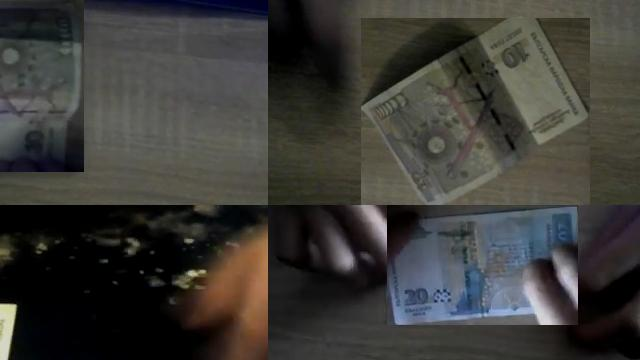10leva: (361, 18, 590, 205), (0, 0, 84, 162)
20leva: (387, 205, 578, 325)
